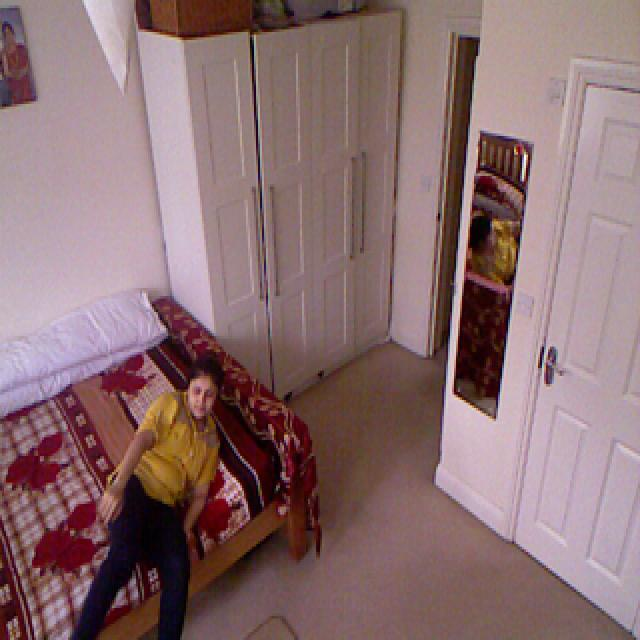lying: (0, 341, 274, 632)
